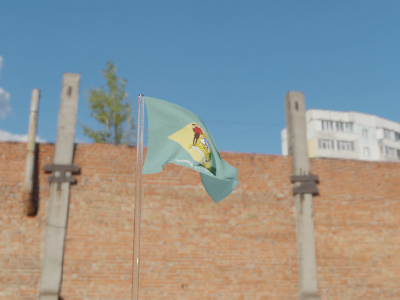Delaware flag: (142, 95, 240, 203)
